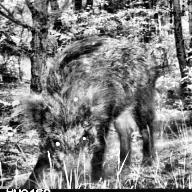boar: (12, 17, 185, 176)
